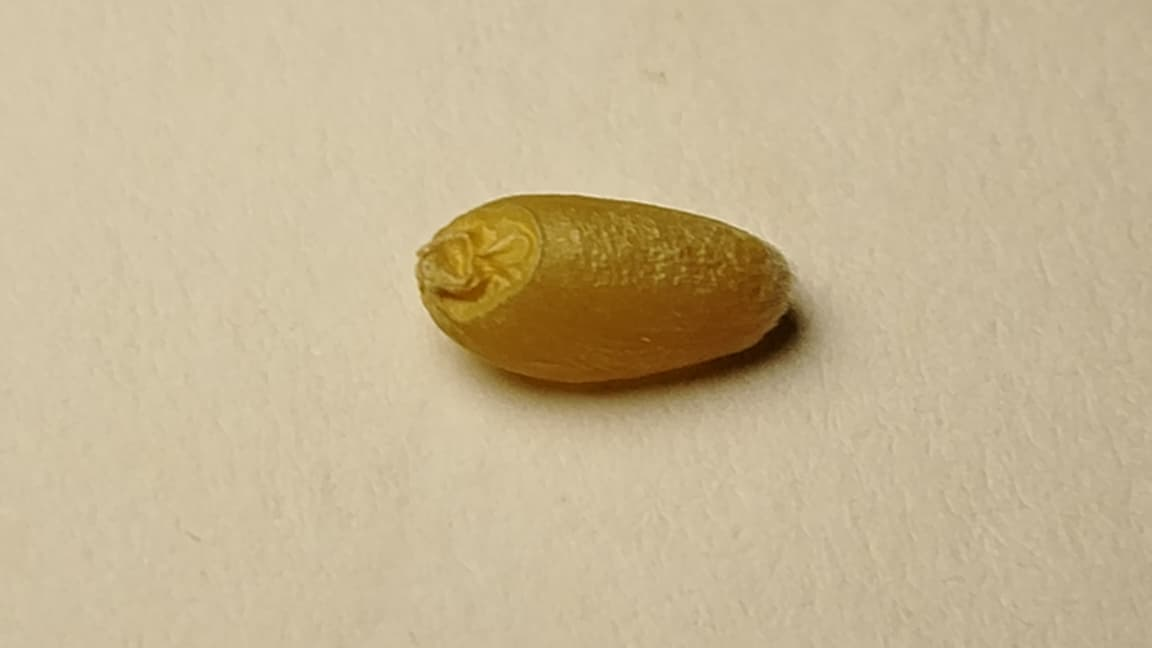healthy: (416, 194, 790, 382)
